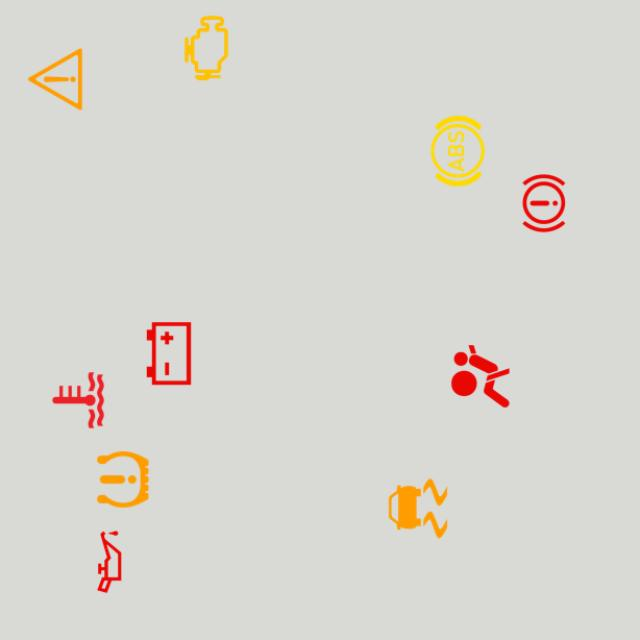Anti Lock Braking System: (419, 112, 496, 190)
Braking System Issue: (506, 165, 582, 242)
Charging System Issue: (130, 315, 208, 392)
Check Engine: (168, 9, 245, 86)
Electronic Stability Problem -ESP-: (379, 470, 456, 547)
Engine Overheating Warning Light: (40, 362, 116, 439)
Low Engine Oil Warning Light: (71, 524, 148, 600)
Low Tire Pressure Warning Light: (85, 441, 162, 518)
Master warning light: (16, 41, 94, 118)
SRS-Airbag: (442, 338, 519, 415)
